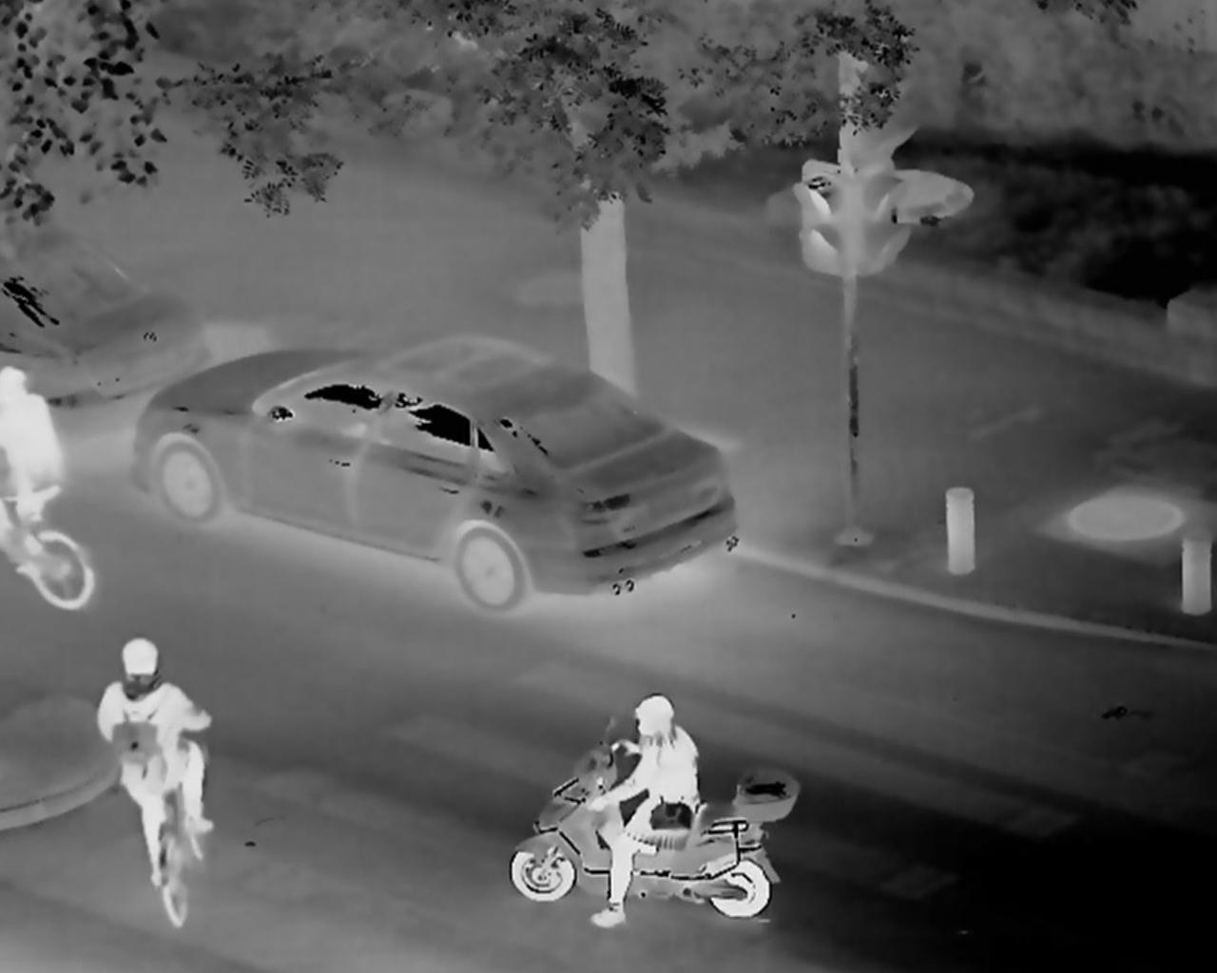person: (89, 638, 226, 923), (603, 691, 719, 943)
